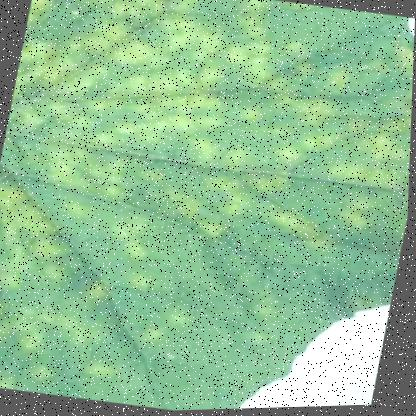CassavaMosaicDisease: (0, 53, 290, 341), (175, 36, 414, 311), (10, 0, 341, 159), (0, 237, 284, 415)
